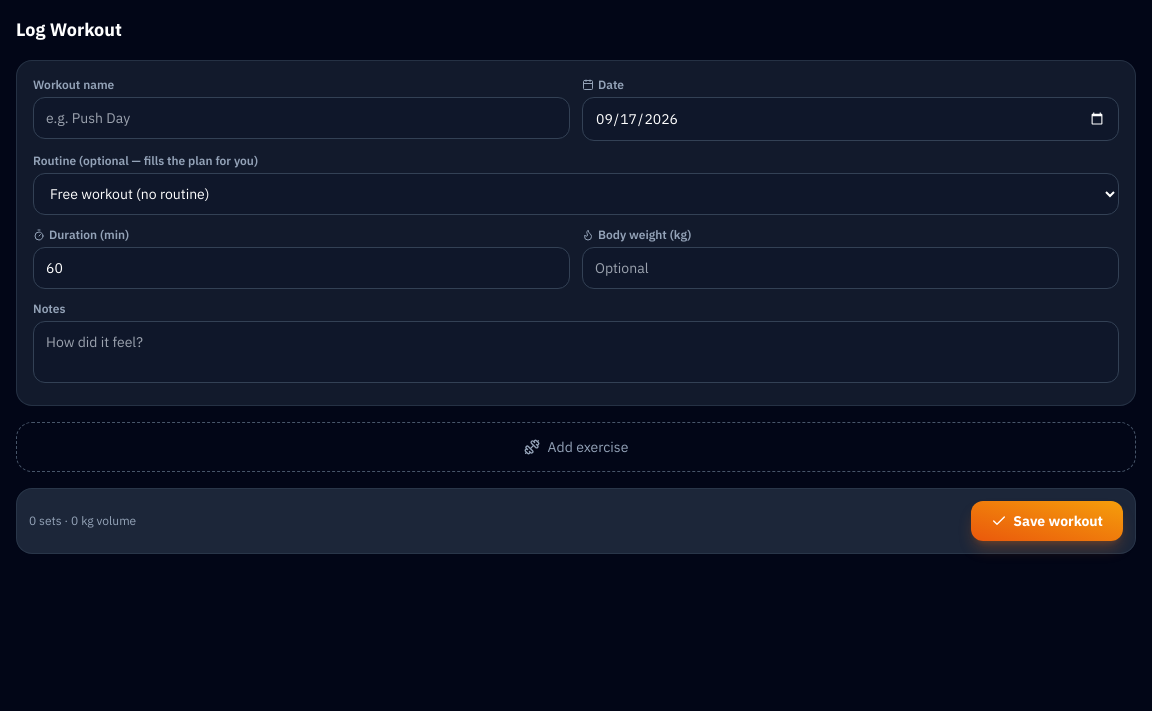
Scenario: A9: Duplicate exercise prevention in LogWorkoutScreen › disables already selected exercises in subsequent block selectors
// Add first block
Click the button "Add exercise": (576,447) [16, 422, 1136, 472]
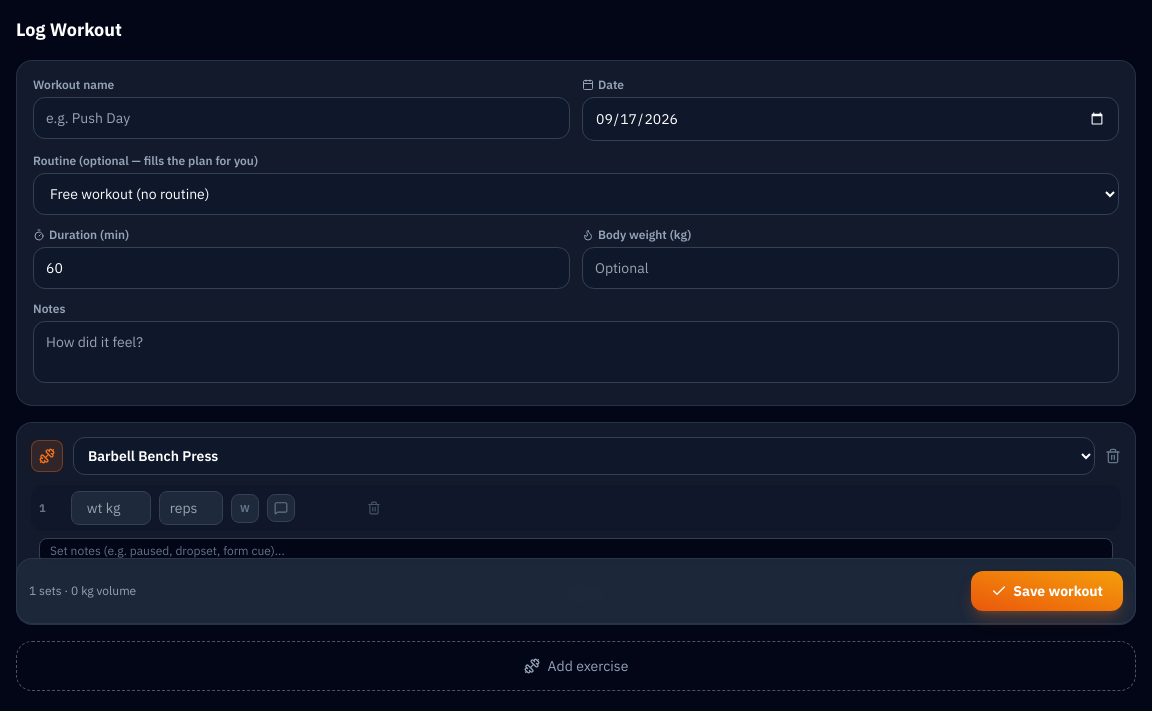
// Add second block
Click the button "Add exercise": (576,666) [16, 641, 1136, 691]
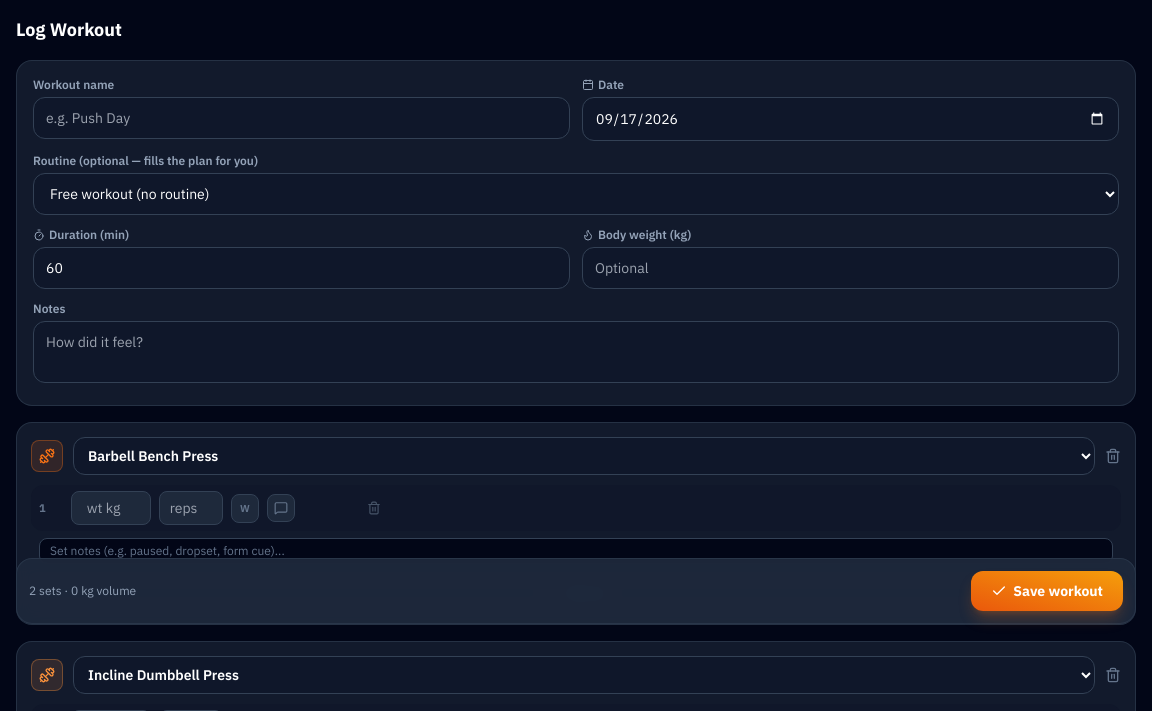
Now the number of dropdowns named "Exercise" is 2, box [73, 437, 1095, 475]; [73, 656, 1095, 694]
